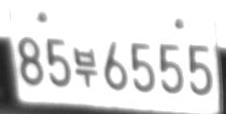5: (188, 44, 213, 96), (159, 43, 184, 94), (46, 37, 71, 87), (130, 42, 154, 92)
6: (103, 41, 128, 91)
8: (18, 36, 44, 85)
부: (73, 47, 98, 88)
